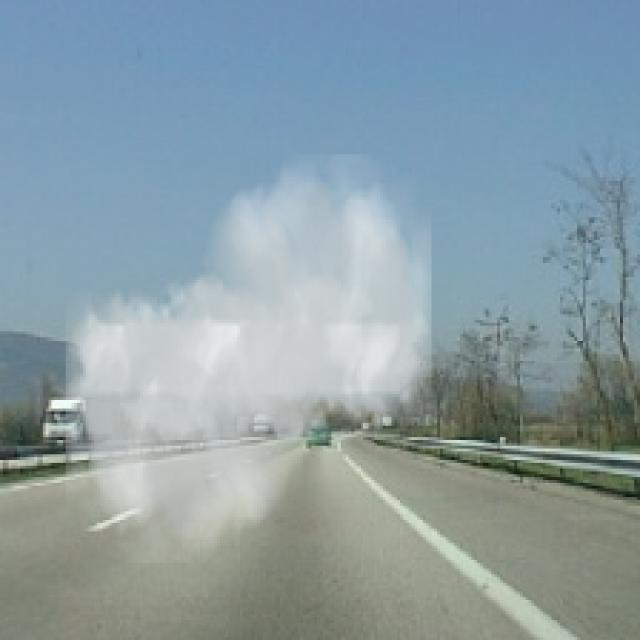smoke: (66, 154, 431, 563)
